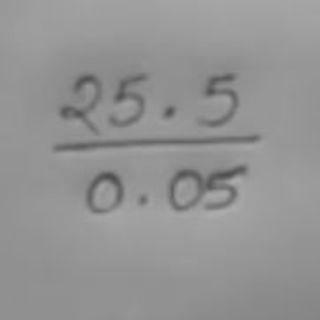.: (159, 102, 178, 125), (135, 190, 155, 210)
0: (84, 169, 125, 216), (168, 166, 205, 213)
2: (58, 72, 104, 138)
5: (194, 72, 242, 128), (106, 72, 149, 130), (205, 162, 248, 211)
